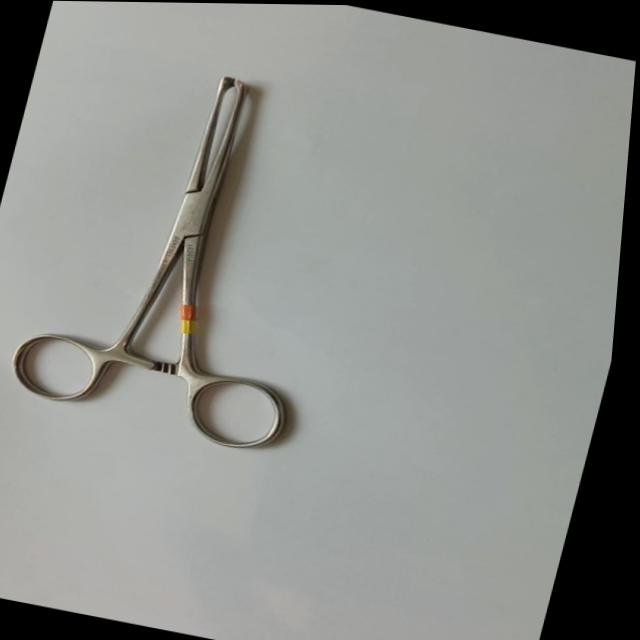AllisForcep: (0, 46, 377, 459)
